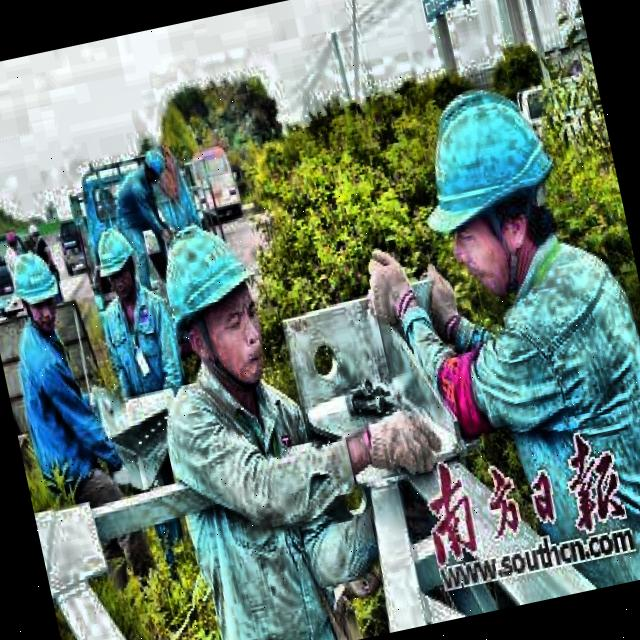helmet: (395, 51, 584, 312), (145, 205, 286, 398), (9, 244, 64, 332), (90, 219, 142, 300), (136, 144, 172, 186), (24, 218, 44, 247)
